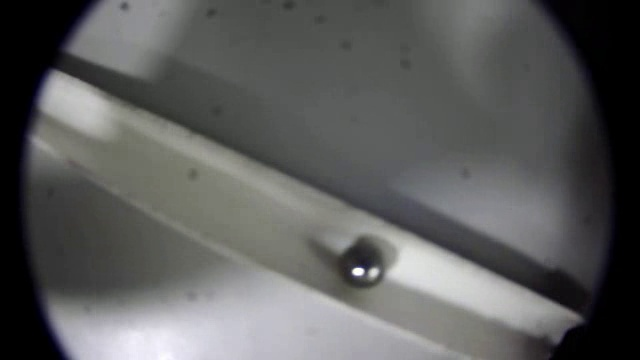gangzhu: (340, 241, 387, 288)
